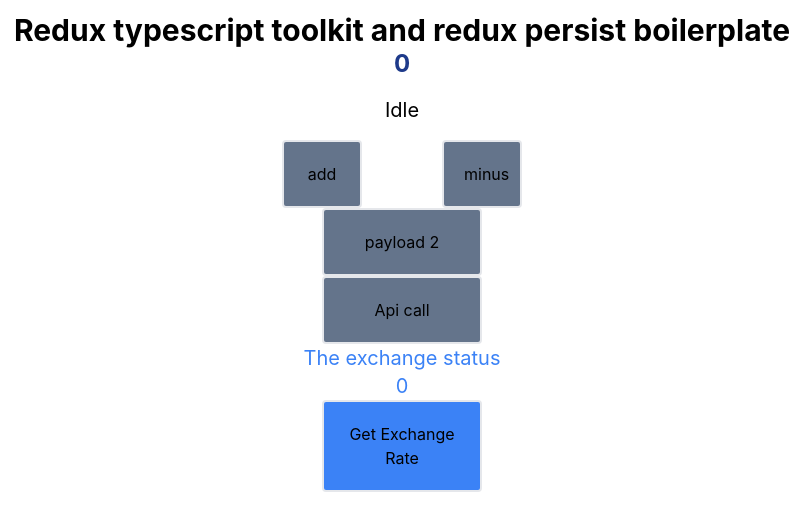
Test: Add 2 via the redux payload
The width and height of the screenshot is (806, 509).
Click the button "payload 2" at [402, 242], box [322,208,482,276]
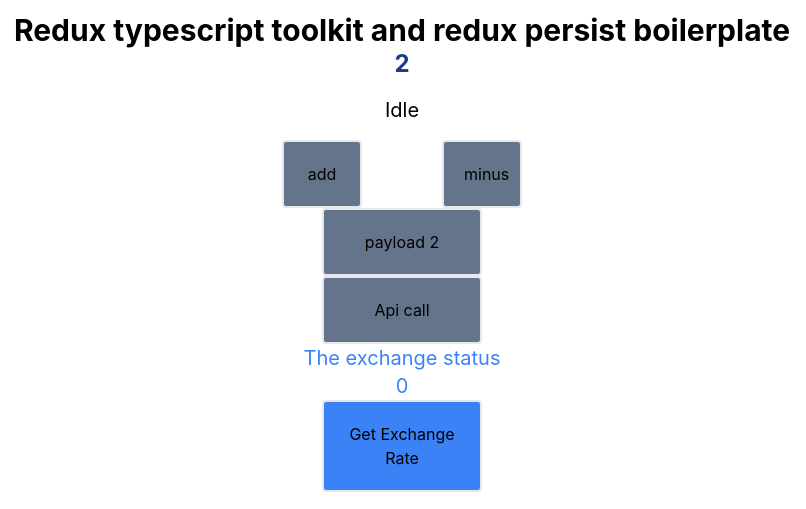
Check: the text with test id "displayCount" reads "2", box [394,49,410,78]
